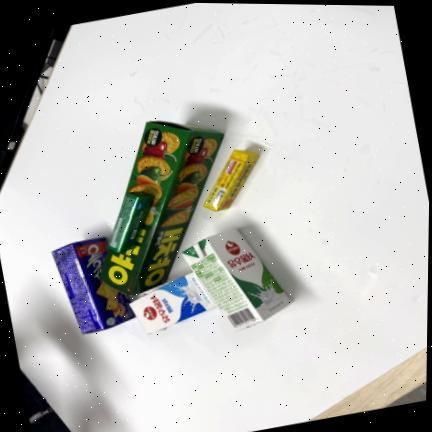cracker_ace: (51, 237, 134, 335)
cracker_vege: (98, 120, 226, 296)
gum_green: (107, 191, 154, 252)
gum_yellow: (204, 148, 261, 211)
milk_blue: (129, 271, 219, 335)
milk_green: (181, 228, 293, 332)
